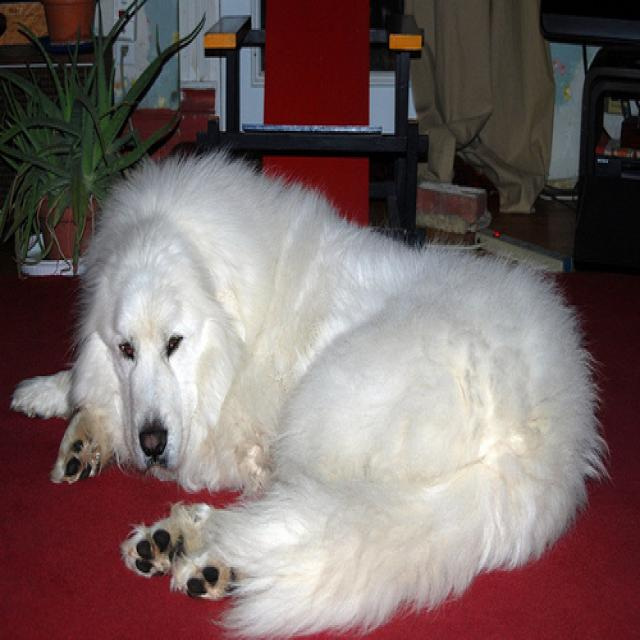dog-great_pyrenees: (4, 135, 614, 636)
